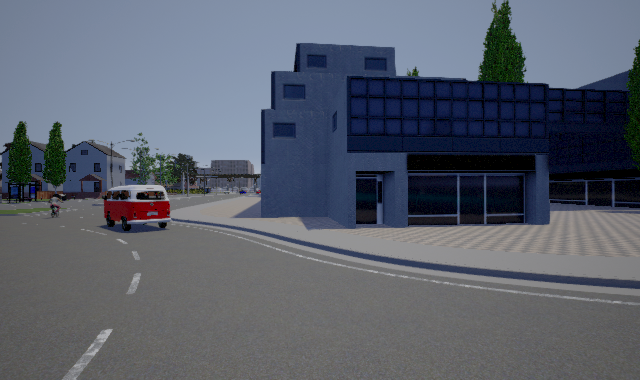bike: (48, 197, 63, 217)
vehicle: (102, 185, 171, 231)
